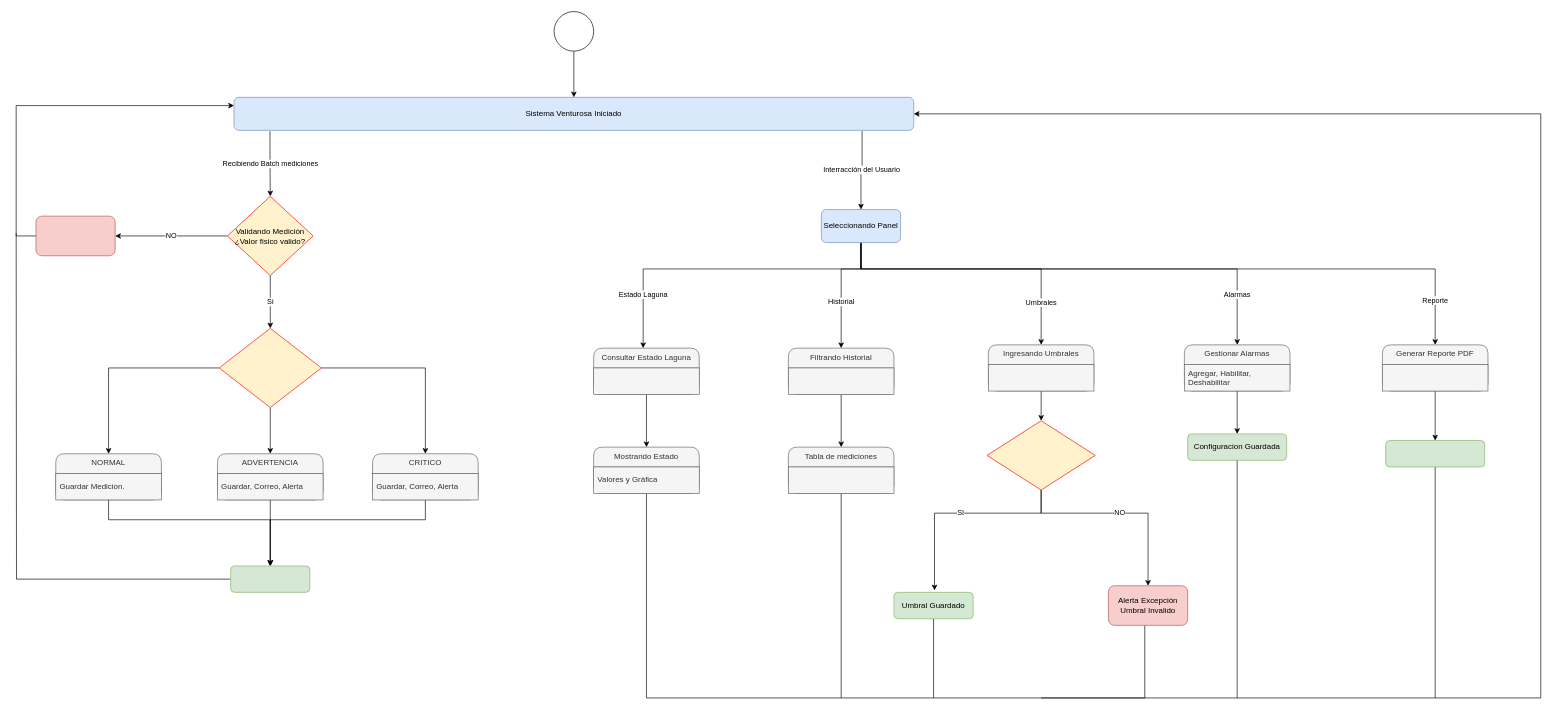
The diagram is 1558 pixels wide and 715 high, and some of its shapes have lost their labels. The shapes that lost their labels are listed below. From the top down, each one's centre as x and y in pixels, then its label:
At [75,235]: "Alerta Excepción Medición Recibida erronea".
At [269,368]: "Evaluando Estado ¿Normal, Advertencia, Critico?".
At [646,380]: "GET/ ultimas 3".
At [841,380]: "Rango fecha desde, hasta.".
At [1041,377]: "minC, minA , maxA , maxC".
At [1435,377]: "Fecha Seleccionada".
At [1040,455]: "¿minC < minA < maxA < maxC?".
At [1435,453]: "PDF generado en disco".
At [841,479]: "Valores y Tabla".
At [270,578]: "Medicion Registrada".
